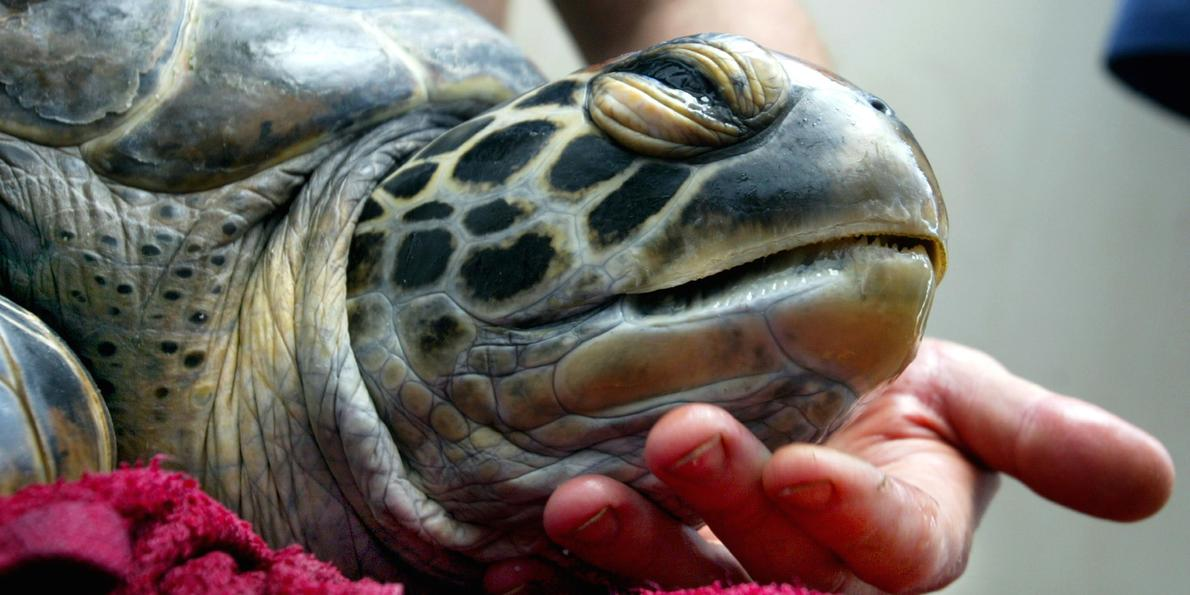turtle: (341, 19, 957, 538)
